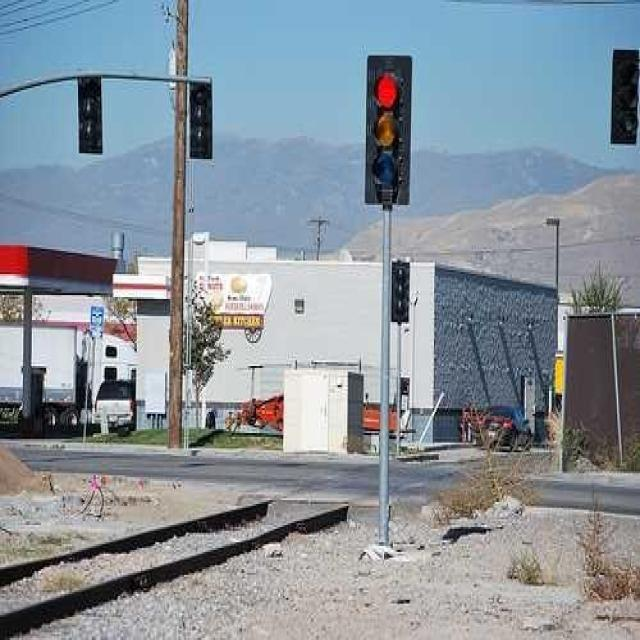Traffic Light -Red-: (368, 54, 408, 203)
